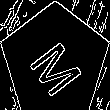M_NE: (23, 27, 87, 94)
